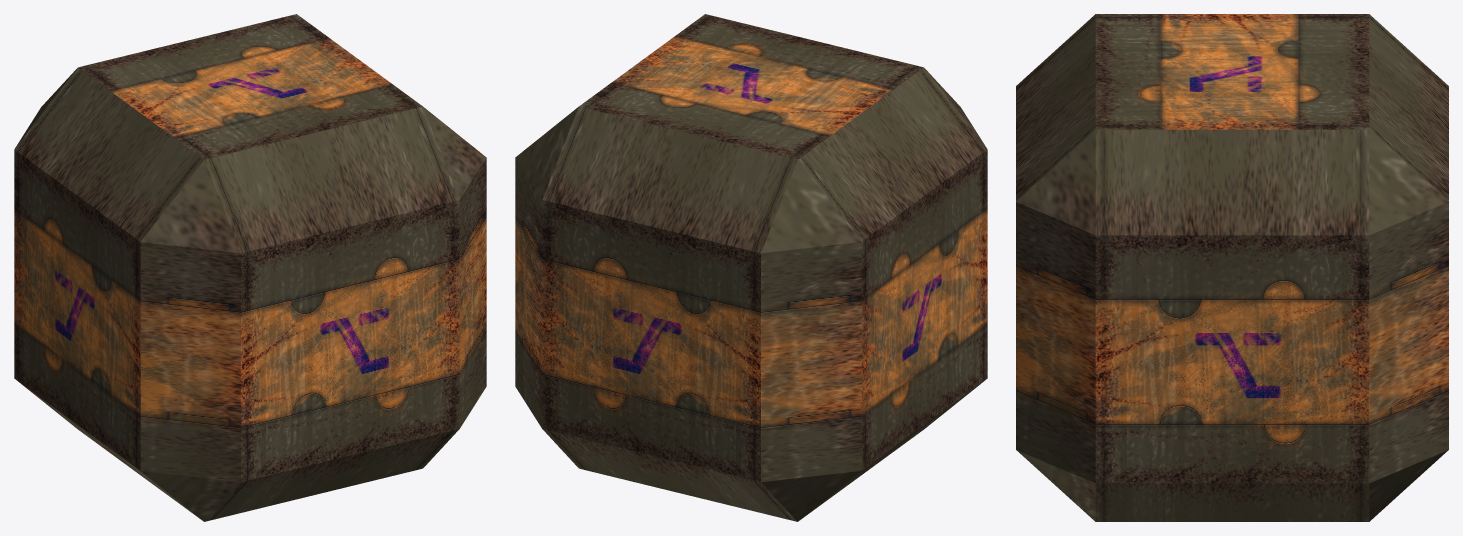
File: plastik_box.FBX
3 renders of one model, left to right at view 1: azimuth 30°, elevation 25°; view 2: azimuth 150°, elevation 25°; view 3: azimuth 270°, elevation 25°, orthographic. The views are drawn at different scales.
Visible parts, largest first — view 1: Box139; view 2: Box139; view 3: Box139.
Part boxes in pixels (x1,y1,x2,y2): Box139: [14, 14, 486, 521]; Box139: [515, 14, 987, 521]; Box139: [1016, 14, 1448, 521].
Bounding box in the file's own units: 40 × 40 × 40.
